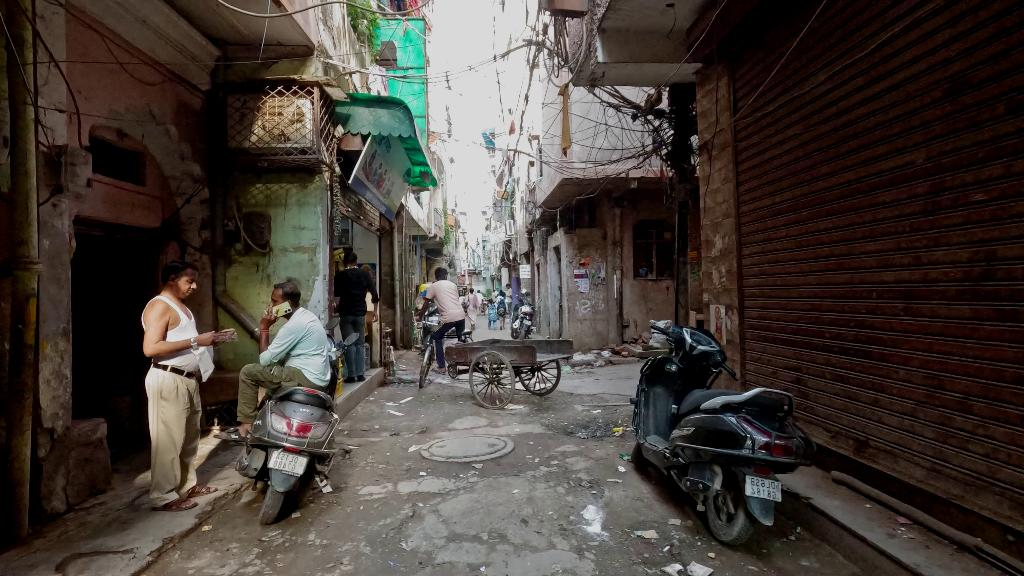garbage: (653, 556, 717, 576), (572, 503, 607, 536), (633, 528, 656, 541), (615, 449, 633, 461), (617, 461, 628, 476), (609, 473, 619, 485)
